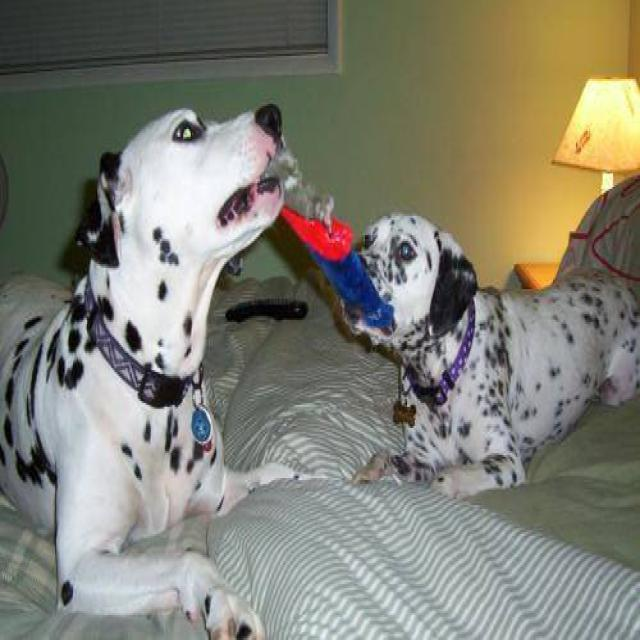dog: (0, 100, 334, 638), (341, 210, 638, 499)
